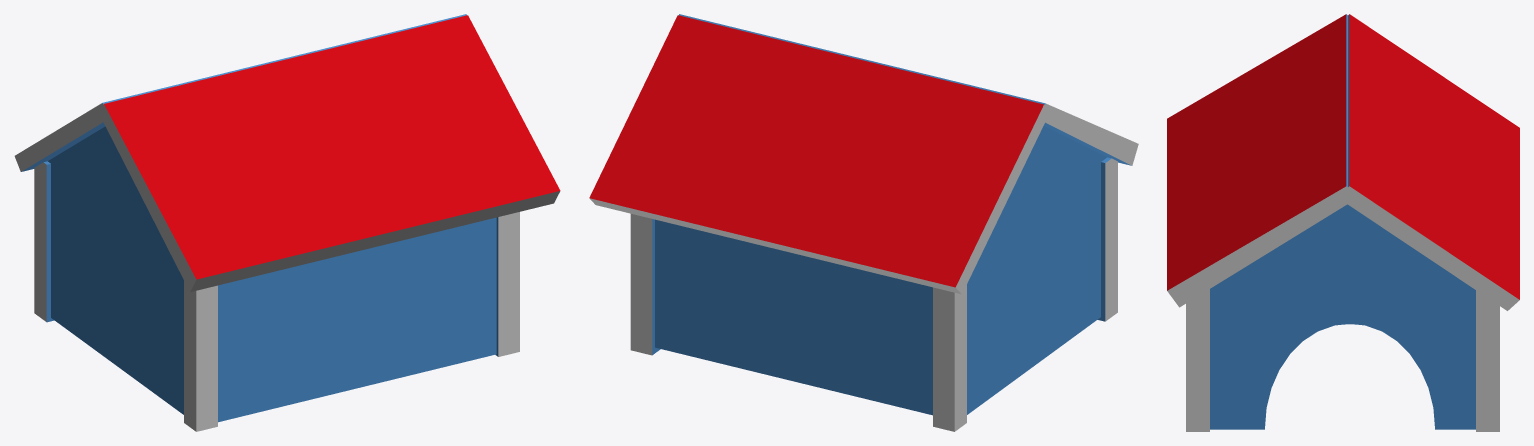
Rendered from dog_house.fbx.
3 views of the same model, side by side, from view 1: azimuth 30°, elevation 25°; view 2: azimuth 150°, elevation 25°; view 3: azimuth 270°, elevation 25° (orthographic). The views are drawn at different scales.
Parts seen in each view (by area): view 1: Cube.004; view 2: Cube.004; view 3: Cube.004.
Boxes of the visible parts, <box> form: Cube.004: <box>14,14,560,431</box>; Cube.004: <box>589,14,1138,431</box>; Cube.004: <box>1167,14,1519,431</box>.
Bounding box in the file's own units: 476 × 338 × 412.
